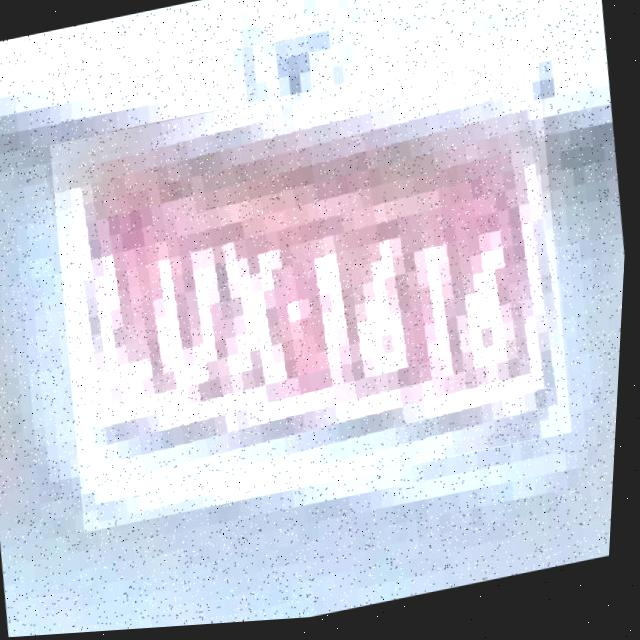LicensePlate: (35, 50, 592, 537)
